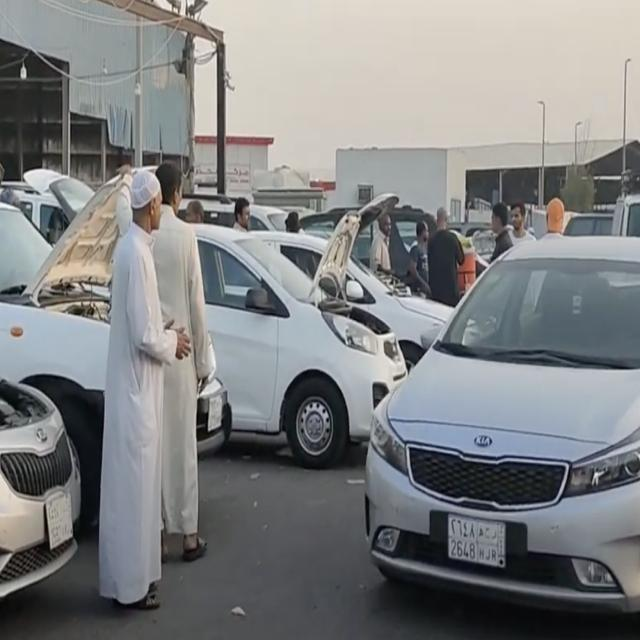license_plate: (446, 515, 507, 566), (44, 490, 74, 559), (206, 394, 224, 438)
